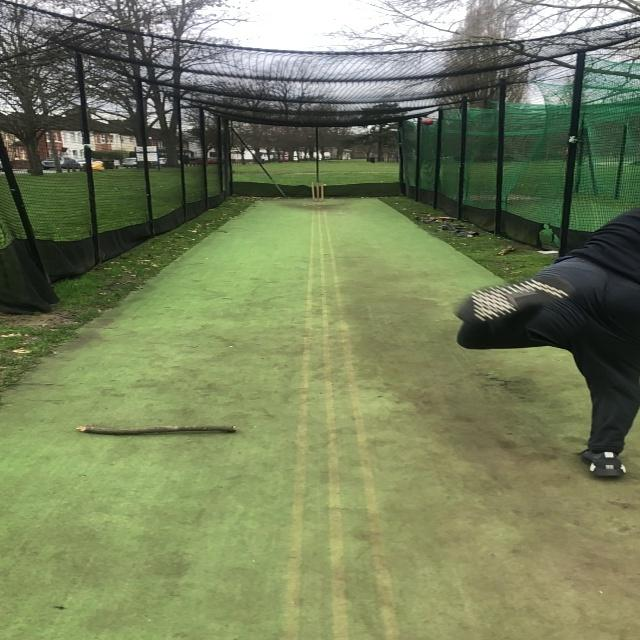ball: (420, 117, 434, 126)
